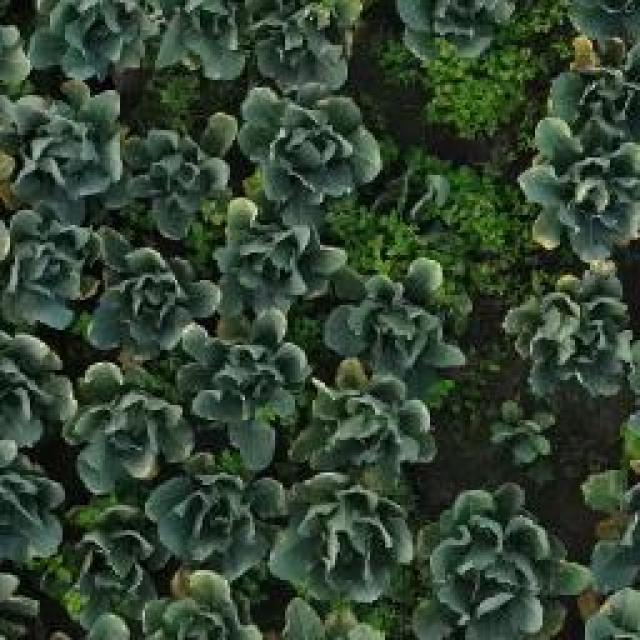cabbage: (409, 481, 574, 640), (496, 266, 640, 405), (179, 314, 309, 466), (264, 476, 410, 609), (286, 358, 442, 481), (235, 82, 382, 208), (512, 117, 640, 257), (212, 197, 350, 325), (327, 255, 466, 378), (140, 465, 288, 580), (114, 110, 242, 238), (60, 360, 192, 484), (7, 79, 128, 211), (84, 239, 214, 352), (0, 205, 97, 330), (53, 500, 154, 607), (244, 0, 364, 88), (29, 0, 158, 81), (152, 0, 251, 84), (482, 393, 562, 471)
